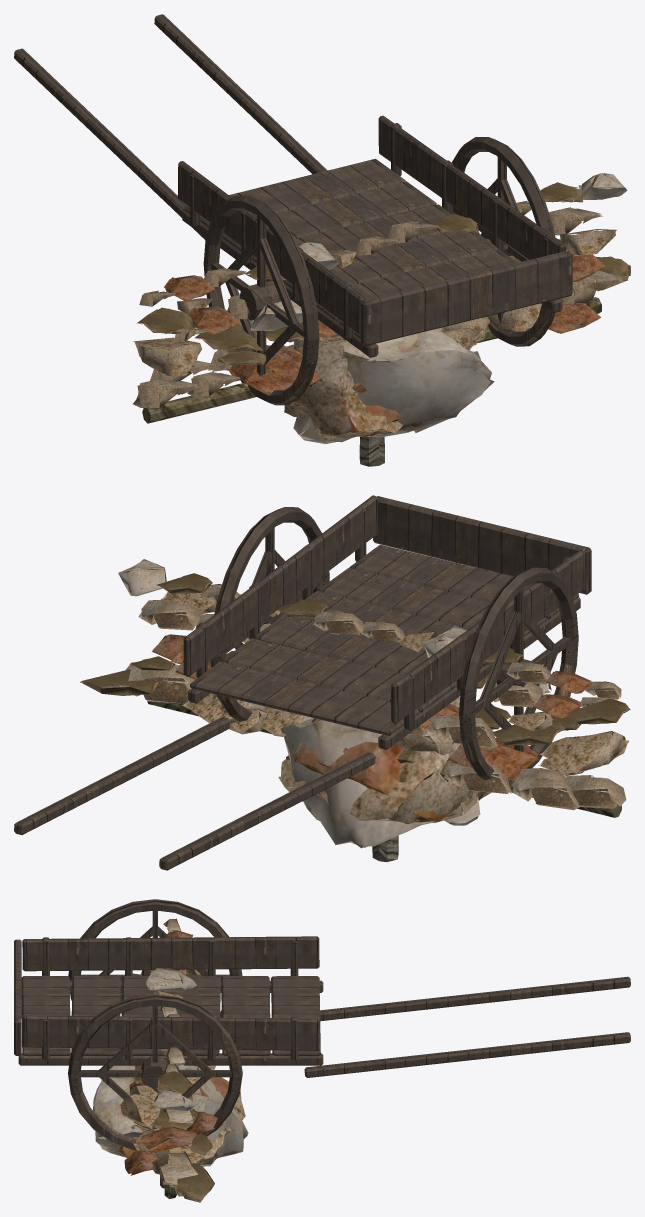
Rendered from road-props-lite.glb.
The picture shows the model from 3 angles, top to bottom: view 1: azimuth 30°, elevation 25°; view 2: azimuth 150°, elevation 25°; view 3: azimuth 270°, elevation 25°; orthographic projection. The views are drawn at different scales.
Parts seen in each view (by area): view 1: cart, wall, rk4, rk2, frail, fpost; view 2: cart, wall, rk4, rk2, rk0, bd1, frail, rk1, fpost; view 3: cart, wall, rk4, rk2, rk0.
Part boxes in pixels (box(x1,y1,x2,y2)): cart: box(14, 14, 572, 405); wall: box(133, 173, 630, 408); rk4: box(293, 328, 494, 443); rk2: box(287, 337, 403, 440); frail: box(142, 297, 601, 423); fpost: box(359, 436, 384, 466); cart: box(14, 495, 591, 870); wall: box(80, 559, 630, 810); rk4: box(281, 701, 480, 848); rk2: box(278, 697, 491, 823); rk0: box(294, 718, 459, 821); bd1: box(292, 728, 475, 818); frail: box(147, 701, 621, 817); rk1: box(290, 729, 477, 822); fpost: box(372, 835, 398, 862); cart: box(14, 899, 630, 1150); wall: box(119, 918, 218, 1202); rk4: box(93, 1065, 248, 1166); rk2: box(196, 1090, 245, 1164); rk0: box(119, 1077, 228, 1157).
Bounding box in the file's own units: 3.06 × 1.69 × 3.95.
Materials: 3 (3 with a texture image).
